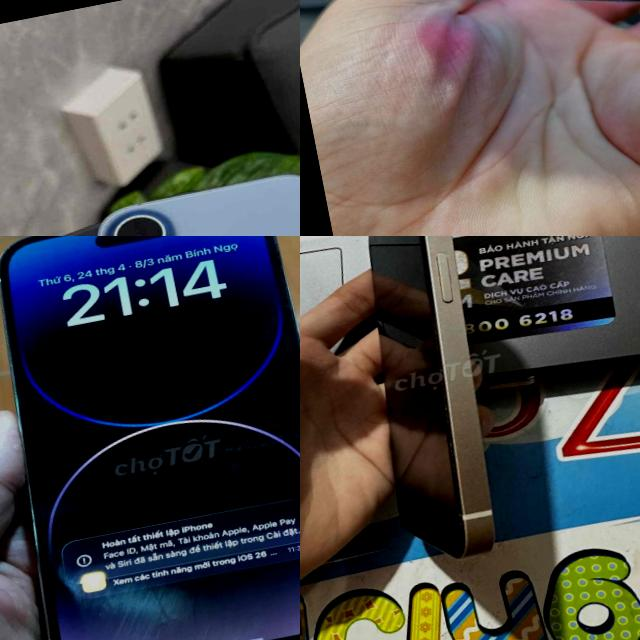gen_12_13: (344, 236, 547, 570)
gen_14: (0, 236, 300, 640)
gen_15: (352, 0, 640, 88)
gen_17: (99, 157, 300, 236)
